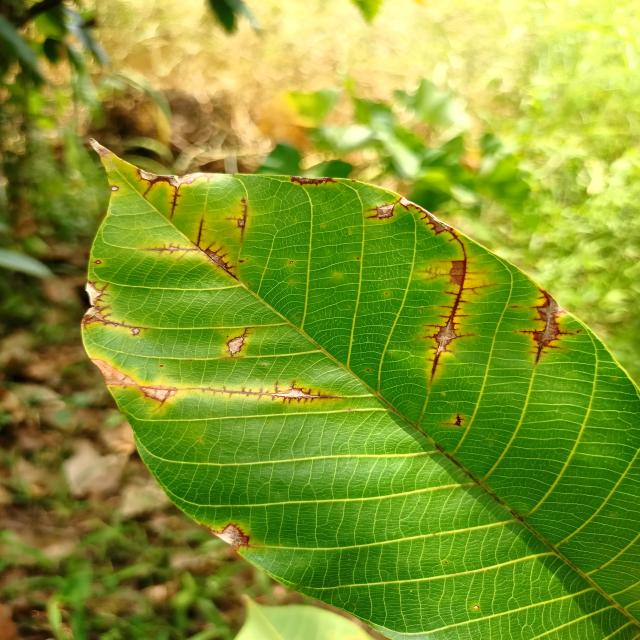Colletotrichum: (111, 186, 119, 191), (95, 260, 102, 264), (356, 257, 360, 260), (290, 261, 294, 263), (386, 292, 388, 295)
Corynespora: (416, 236, 497, 382), (519, 288, 576, 364), (184, 380, 344, 404), (80, 280, 148, 330), (411, 204, 464, 245), (191, 242, 239, 281), (140, 243, 199, 260), (225, 205, 250, 243), (364, 203, 396, 220), (168, 188, 182, 220), (440, 414, 467, 426), (196, 218, 206, 246), (141, 183, 155, 201), (241, 326, 252, 338)
Leaf-Blight: (401, 196, 449, 232), (90, 358, 138, 386), (140, 169, 215, 184), (213, 524, 242, 550), (142, 385, 178, 402), (90, 138, 112, 158), (228, 338, 244, 355), (378, 205, 393, 218)
